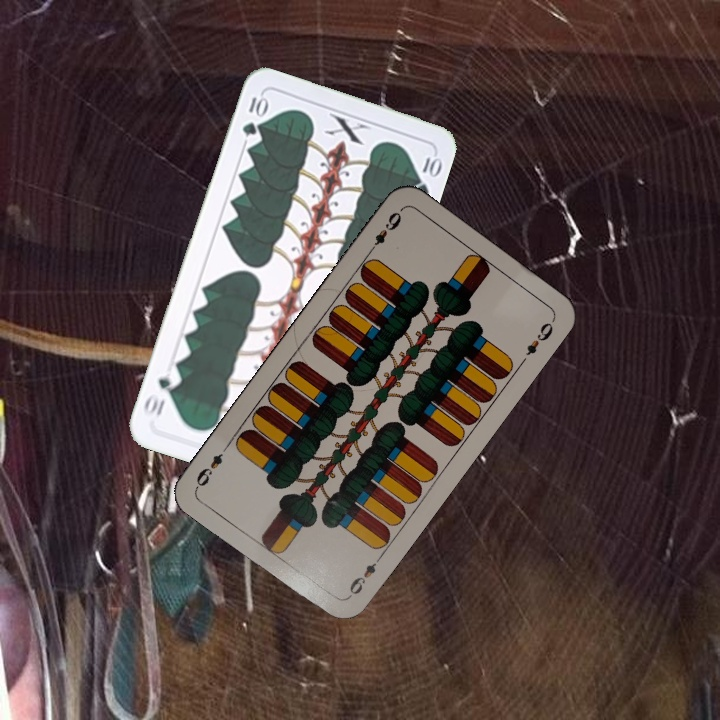E9: (364, 205, 405, 256), (344, 551, 385, 601)
G10: (238, 91, 269, 139)
